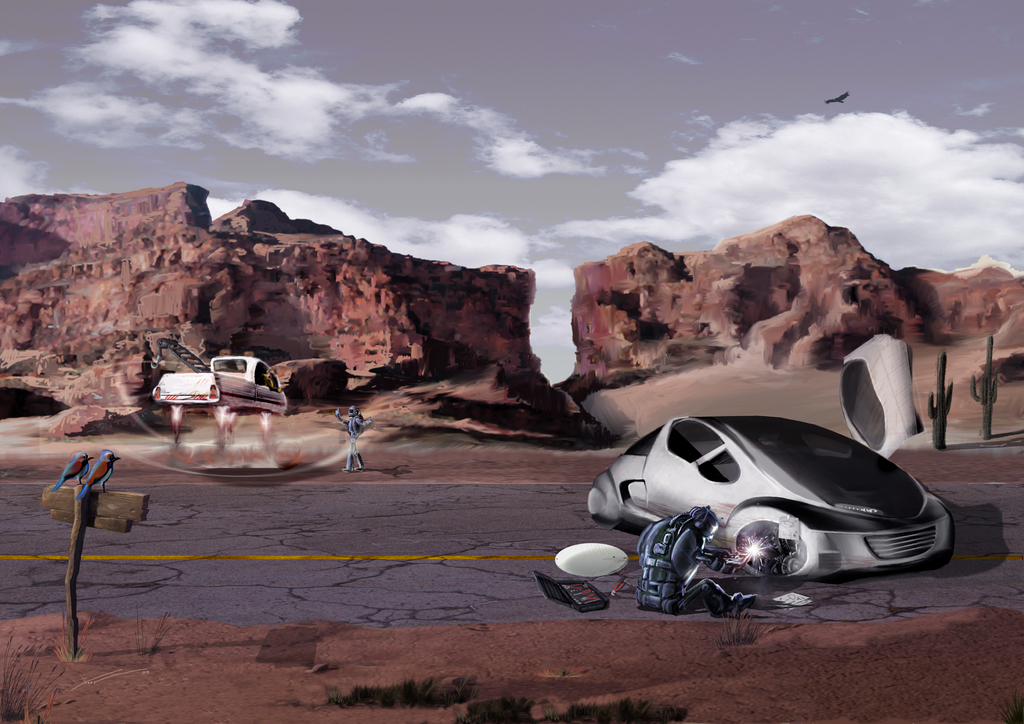Car: (583, 330, 950, 578)
